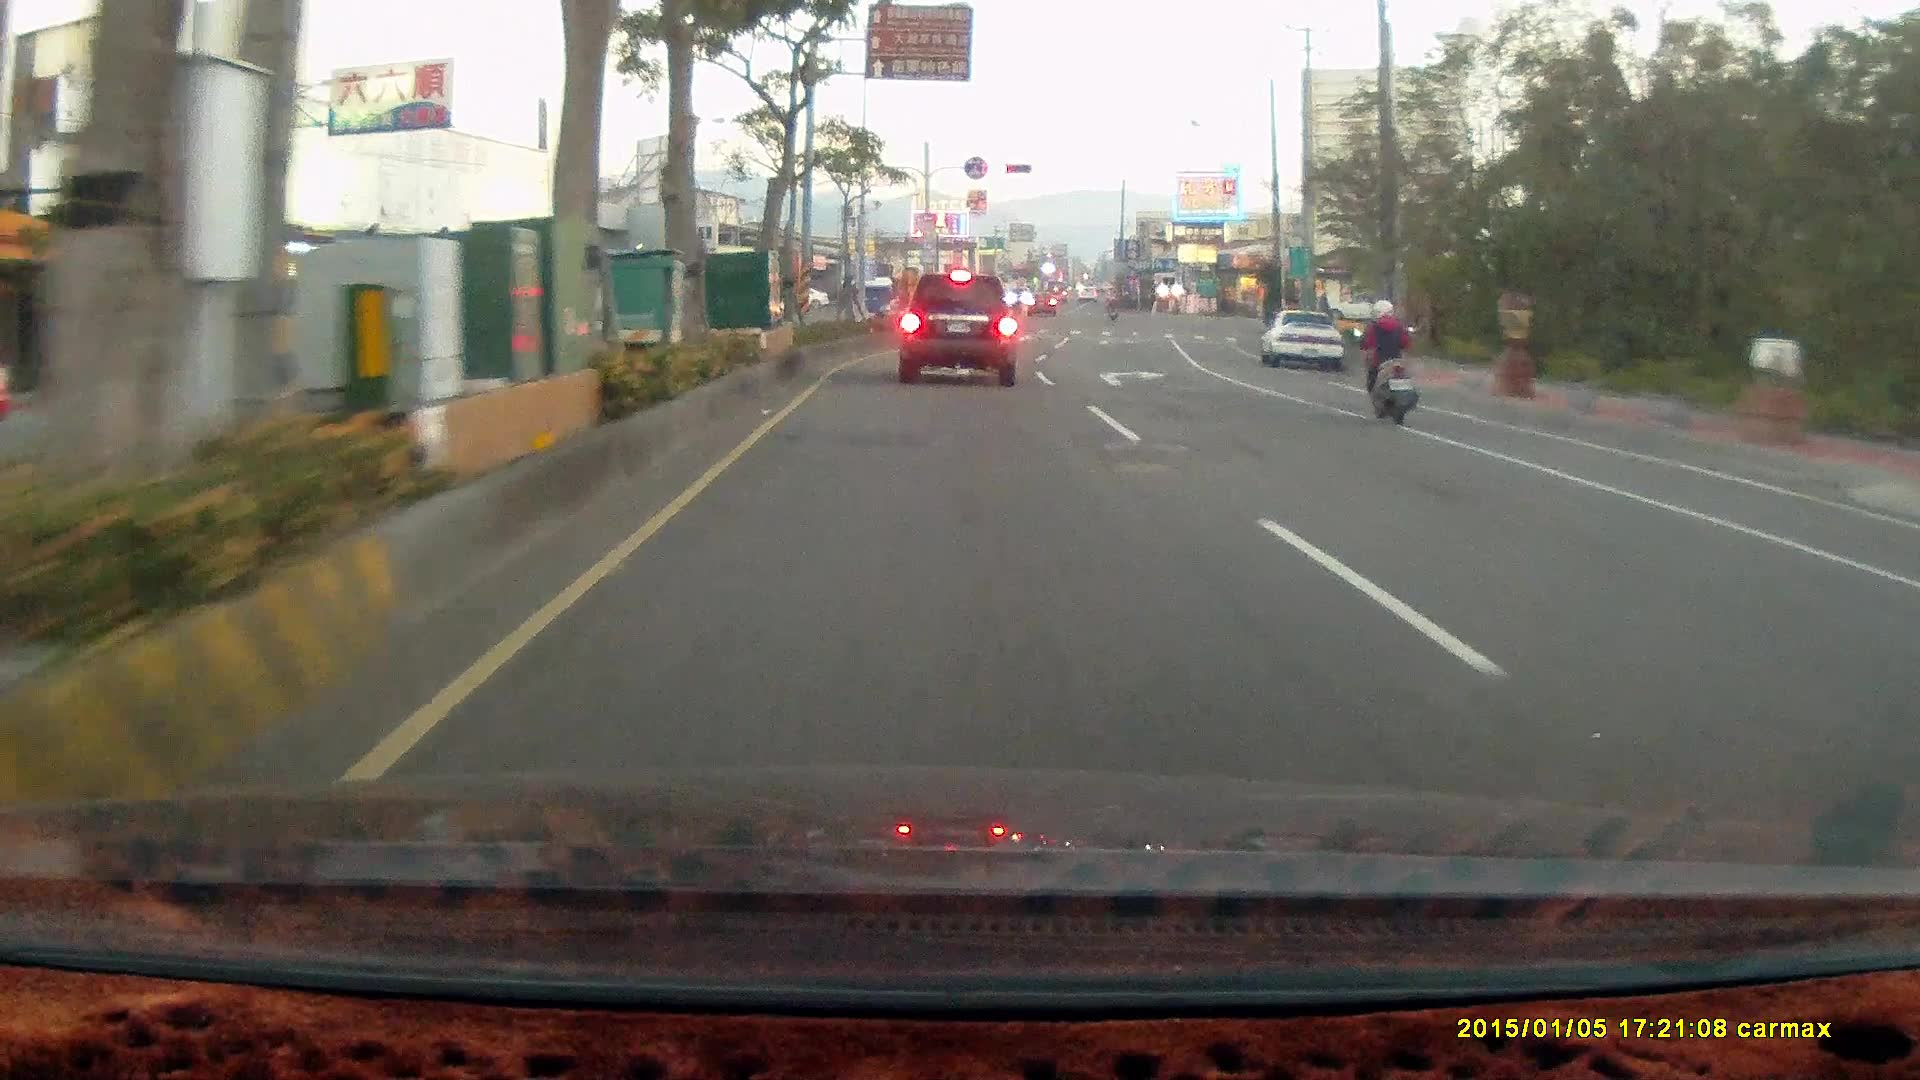rider: (1350, 294, 1417, 424)
vehicle: (898, 271, 1015, 385), (1896, 493, 1920, 836), (1883, 528, 1920, 690), (1259, 306, 1345, 370), (1261, 308, 1346, 372), (1313, 289, 1390, 325)
